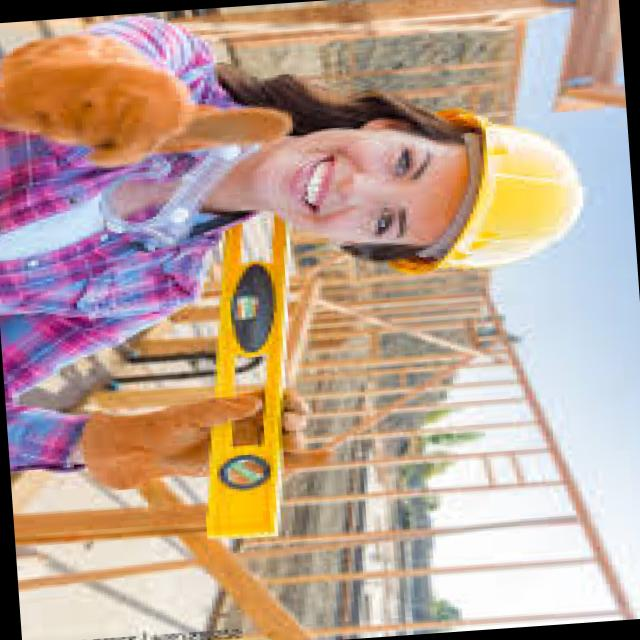gloved: (0, 18, 297, 177), (82, 386, 329, 492)
